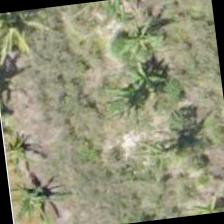Kelapa_Sawit: (0, 6, 67, 71)
